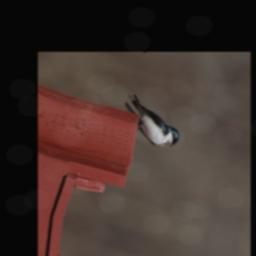Swallow: (118, 91, 185, 154)
